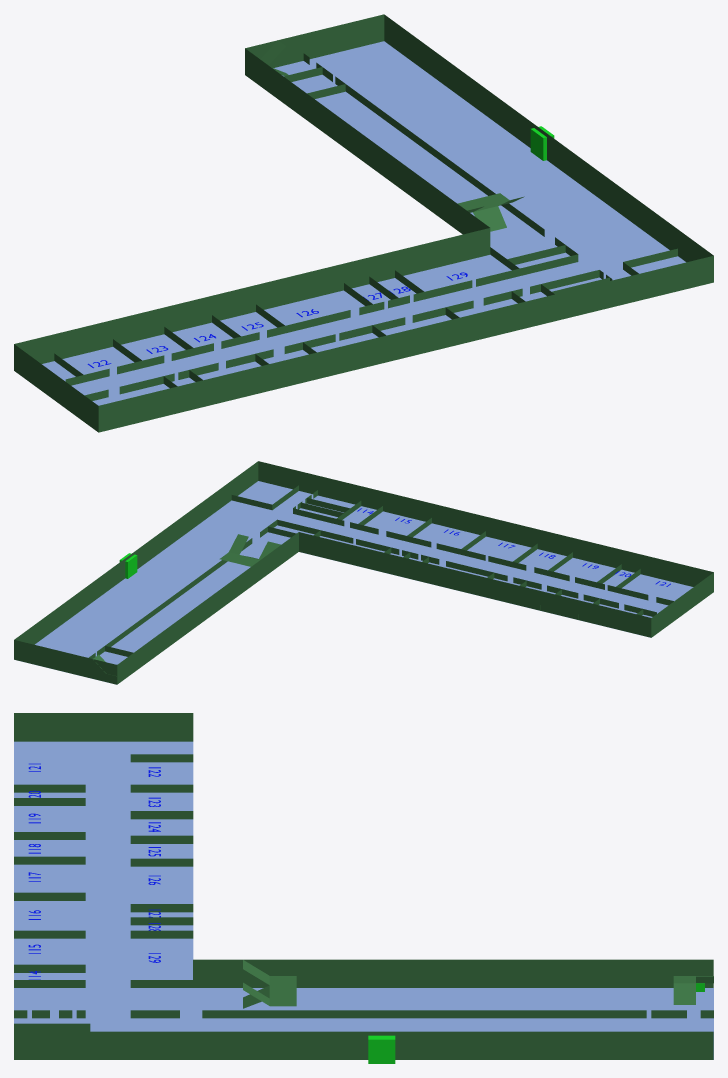
Rendered from FirstFloor.glb.
3 views of the same model, one above another, from view 1: azimuth 30°, elevation 25°; view 2: azimuth 150°, elevation 25°; view 3: azimuth 270°, elevation 25° (orthographic). The views are drawn at different scales.
Visible parts, largest first — view 1: Outer walls.002, Floor.002, Inner wall.002, MainLadder.002; view 2: Outer walls.002, Floor.002, Inner wall.002, MainLadder.002; view 3: Floor.002, Outer walls.002, Inner wall.002, MainLadder.002, RightLadder, MainExit.
Boxes of the visible parts, left/top/right/bottom form: Outer walls.002: left=14, top=14, right=713, bottom=432; Floor.002: left=42, top=41, right=685, bottom=405; Inner wall.002: left=54, top=53, right=677, bottom=400; MainLadder.002: left=457, top=193, right=524, bottom=231; Outer walls.002: left=14, top=461, right=713, bottom=684; Floor.002: left=21, top=481, right=693, bottom=682; Inner wall.002: left=88, top=485, right=673, bottom=658; MainLadder.002: left=219, top=534, right=280, bottom=566; Floor.002: left=14, top=741, right=713, bottom=1059; Outer walls.002: left=14, top=713, right=713, bottom=1059; Inner wall.002: left=14, top=754, right=713, bottom=1031; MainLadder.002: left=243, top=960, right=296, bottom=1008; RightLadder: left=673, top=976, right=713, bottom=1004; MainExit: left=368, top=1035, right=395, bottom=1063.
Size of the model in its own units: 170 by 7 by 156.
